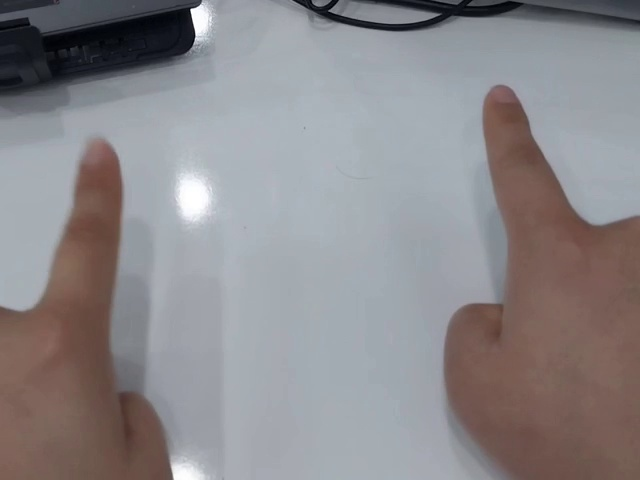fingers: (74, 136, 124, 192), (481, 84, 531, 129)
